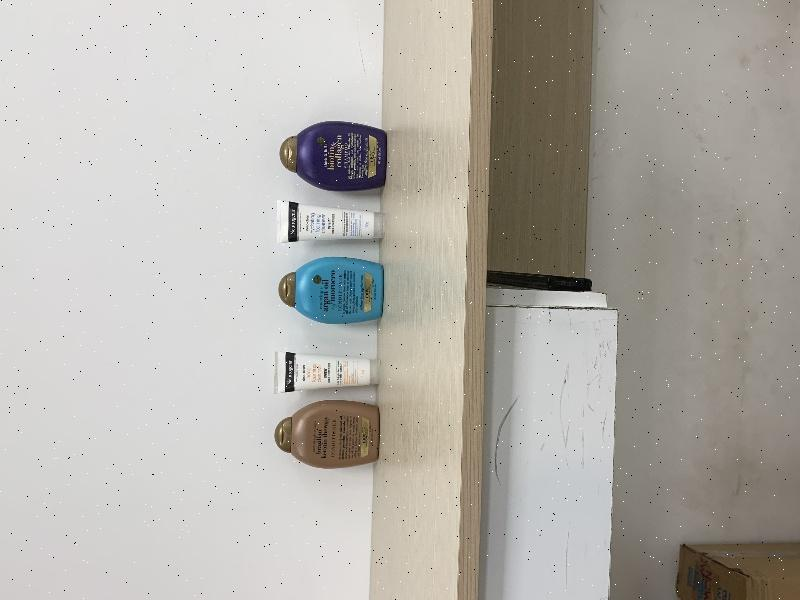AcneFoamingCleanser: (273, 350, 381, 394)
ArganOilOfMorocco_Conditioner: (279, 256, 384, 324)
BiotinCollagen_Shampoo: (280, 121, 387, 190)
BrazilianKerationTherapy_Conditioner: (275, 400, 380, 470)
HydratingFoamingCleanser: (276, 200, 385, 244)
